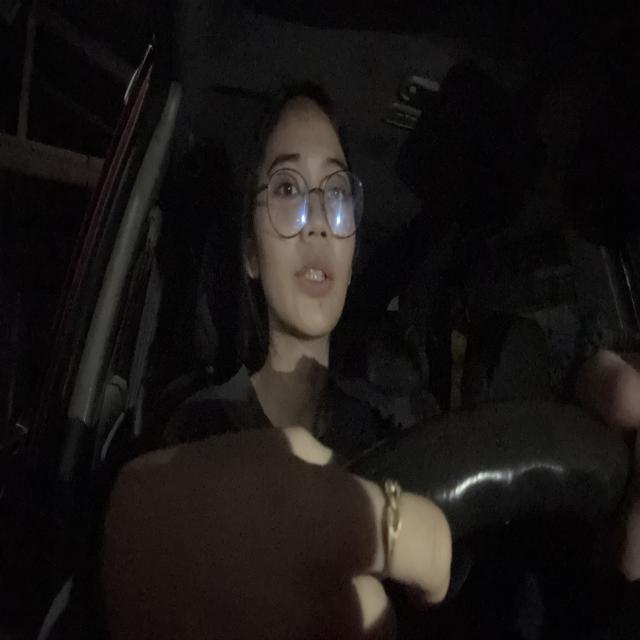open: (267, 150, 304, 210), (322, 156, 352, 217)
